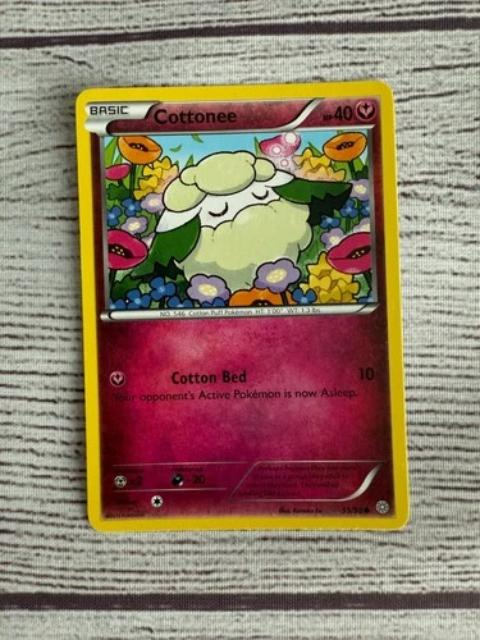Card: (70, 78, 412, 534)
Name: (147, 104, 239, 129)
